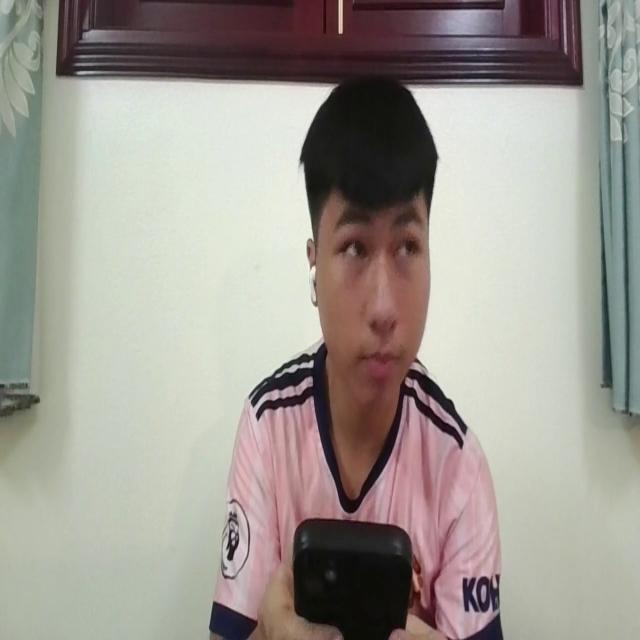phone: (291, 509, 409, 639)
student: (206, 64, 502, 640)
